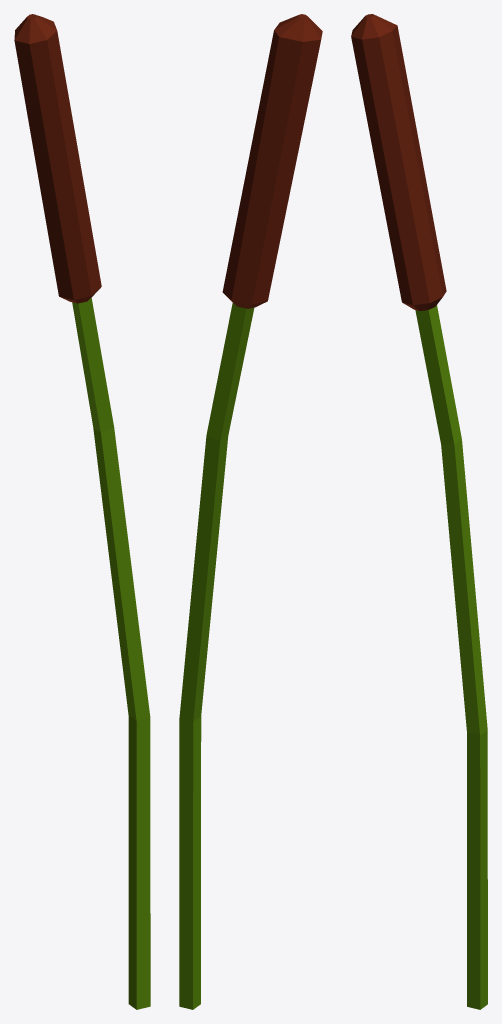
Rendered from curved_cattail.fbx.
3 renders of one model, left to right at view 1: azimuth 30°, elevation 25°; view 2: azimuth 150°, elevation 25°; view 3: azimuth 330°, elevation 25°, orthographic. The views are drawn at different scales.
Visible parts, largest first — view 1: Catstail.002; view 2: Catstail.002; view 3: Catstail.002.
Part boxes in pixels (box(x1,y1,x2,y2)): Catstail.002: box(14, 14, 150, 1009); Catstail.002: box(179, 14, 322, 1009); Catstail.002: box(351, 14, 487, 1009).
Size of the model in its own units: 34.98 by 252 by 12.62.
